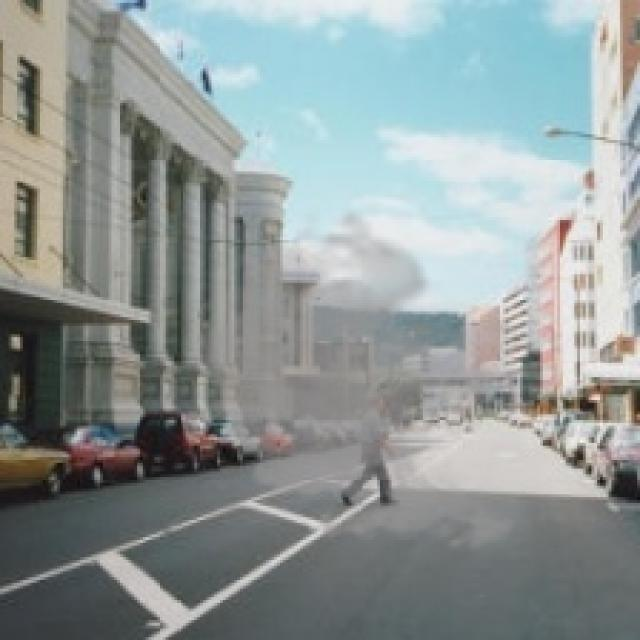Smoke: (166, 208, 583, 560)
